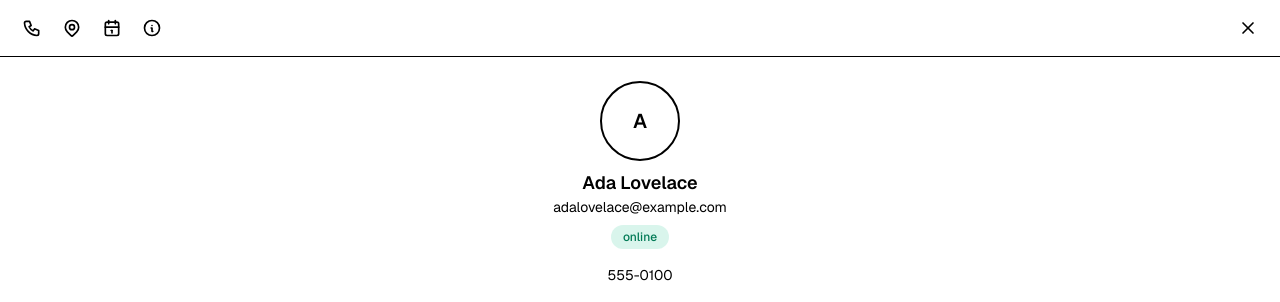
Scenario: ContactProfile › switches tab content on icon click
Click the button titled "Address" at (72, 28), box [56,12,88,44]
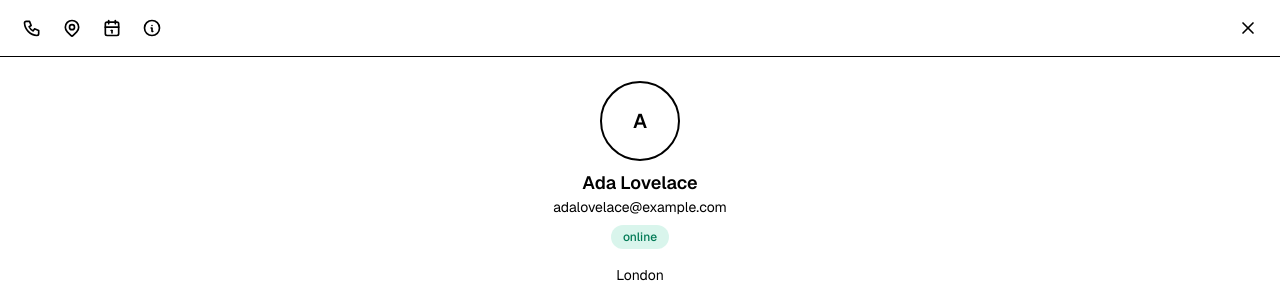
Expected: the text "London" is shown, [616,265,664,285]
Click the button titled "Joined" at (112, 28), box [96,12,128,44]
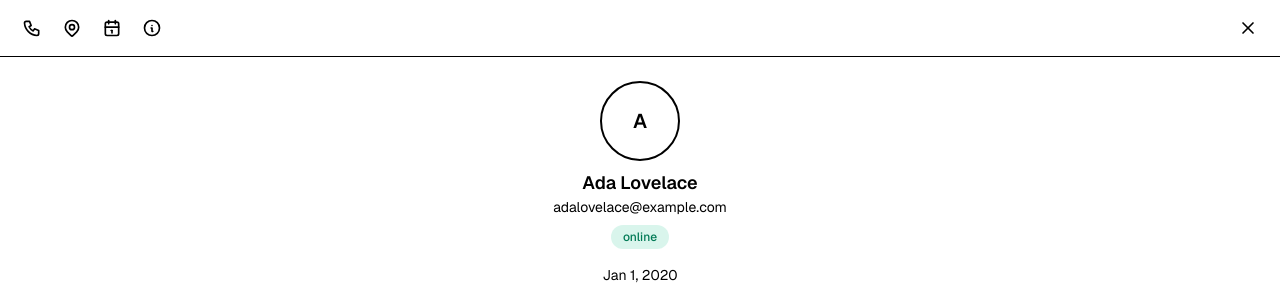
Expected: the text "Jan 1, 2020" is shown, [602,265,678,285]
Click the button titled "More Info" at (152, 28), box [136,12,168,44]
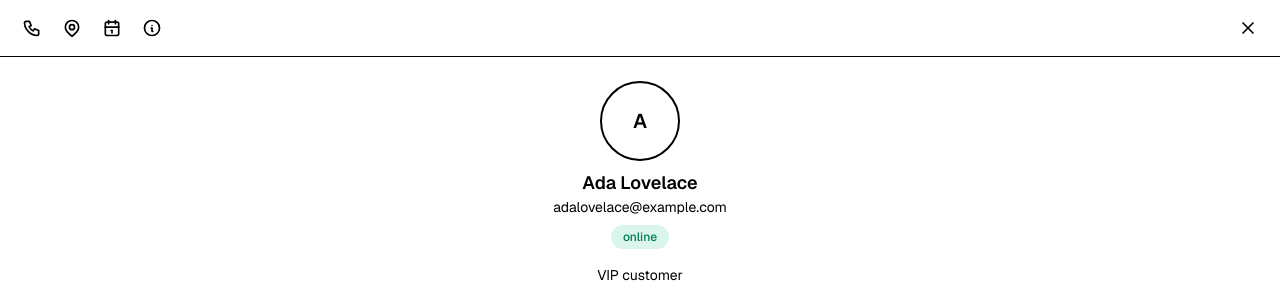
Expected: the text "VIP customer" is shown, [597,265,683,285]
